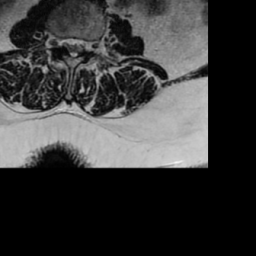CCS_normal: (70, 29, 76, 65)
LFS_normal: (85, 30, 93, 58)
LLS_normal: (76, 30, 84, 61)
RFS_normal: (54, 26, 62, 54)
RLS_normal: (62, 31, 70, 55)
